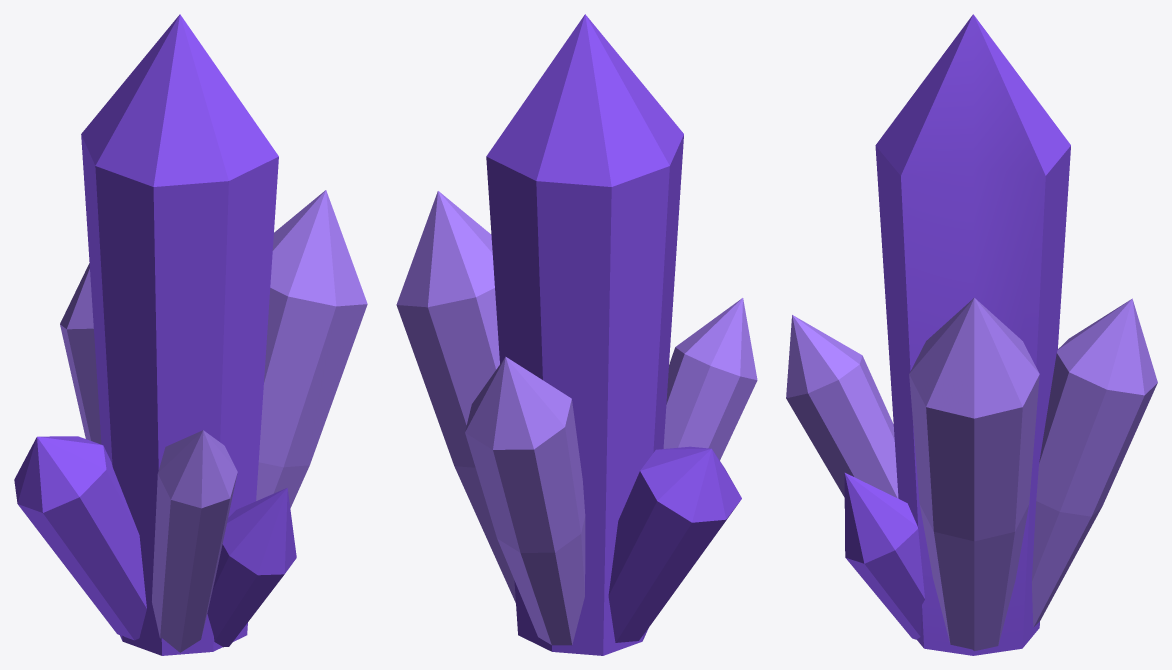
Rendered from Cristaux.fbx.
3 views of the same model, side by side, from view 1: azimuth 30°, elevation 25°; view 2: azimuth 150°, elevation 25°; view 3: azimuth 270°, elevation 25° (orthographic).
Visible parts, largest first — view 1: Cube.005; view 2: Cube.005; view 3: Cube.005.
Boxes of the visible parts, bbox=[...] form: Cube.005: bbox=[14, 14, 367, 655]; Cube.005: bbox=[396, 14, 757, 655]; Cube.005: bbox=[786, 14, 1157, 655].
Bounding box in the file's own units: 526 × 937 × 513.
